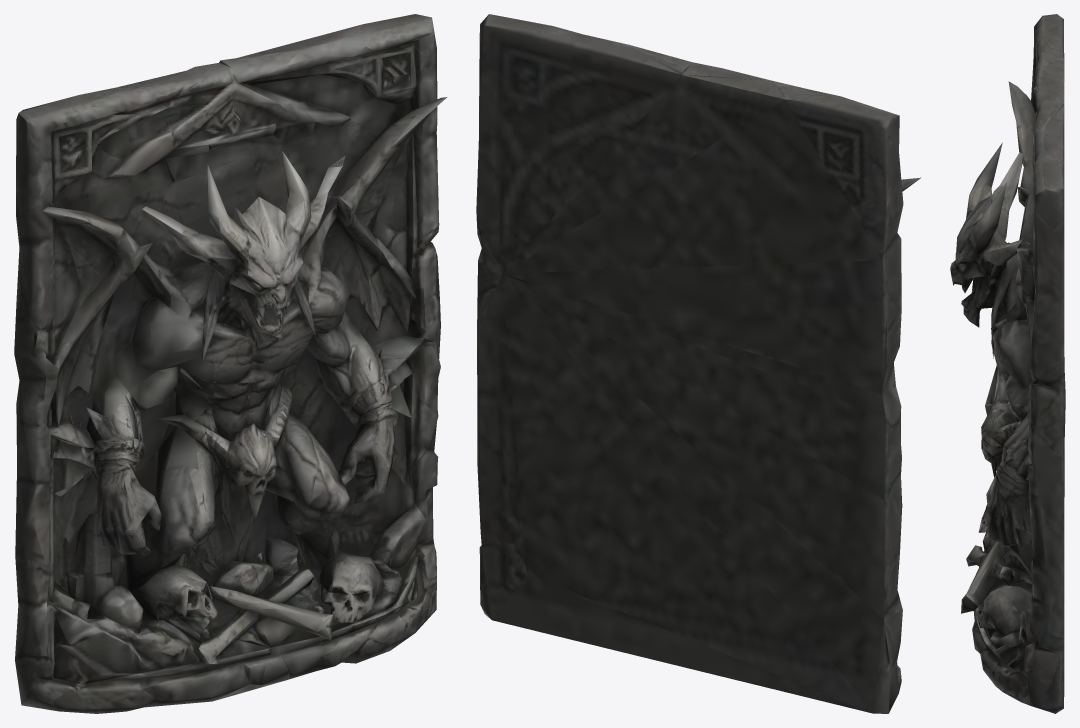
File: obj_deco_demon_1.glb
3 renders of one model, left to right at view 1: azimuth 30°, elevation 25°; view 2: azimuth 150°, elevation 25°; view 3: azimuth 270°, elevation 25°, orthographic. The views are drawn at different scales.
Visible parts, largest first — view 1: Mesh_0; view 2: Mesh_0; view 3: Mesh_0.
Part boxes in pixels (left/top/right/bottom): Mesh_0: left=14, top=14, right=447, bottom=713; Mesh_0: left=476, top=14, right=920, bottom=713; Mesh_0: left=950, top=14, right=1065, bottom=713.
Size of the model in its own units: 1.38 by 1.9 by 0.3765.
1 material, 1 textured.
